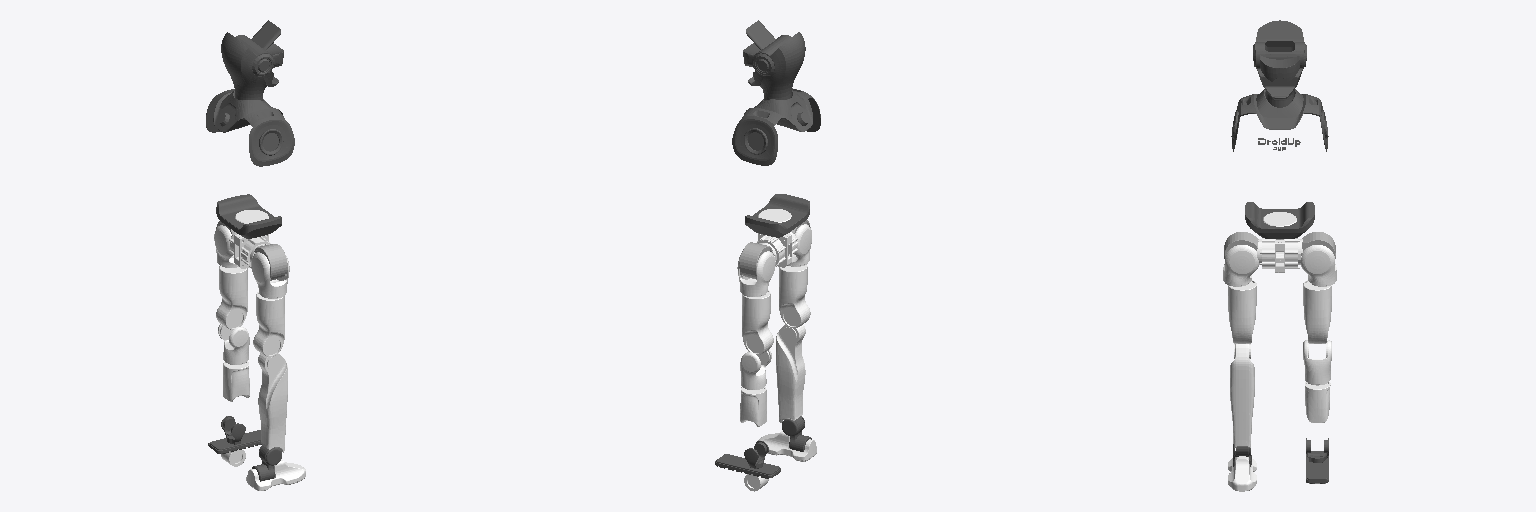
robot.urdf — E1_1114_V2:
<robot name="E1_1114_V2">
  <mujoco>
    <compiler meshdir="./meshes" discardvisual="false" />
  </mujoco>
  
  <link name="world"></link>
  <joint name="pelvis" type="floating">
    <parent link="world" />
    <child link="pelvis" />
  </joint>

  <link name="pelvis">
    <inertial>
      <origin xyz="-1.8273E-07 2.9782E-07 0.013661" rpy="0 0 0" />
      <mass value="2" />
      <inertia ixx="0.0041564" ixy="7.95E-08" ixz="-8.881E-09" iyy="0.0040309" iyz="1.8888E-08" izz="0.0033559" />
    </inertial>
    <visual>
      <origin xyz="0 0 0" rpy="0 0 0" />
      <geometry>
        <mesh filename="meshes/pelvis.STL" />
      </geometry>
      <material name="">
        <color rgba="1 1 1 1" />
      </material>
    </visual>
    <collision>
      <origin xyz="0 0 0" rpy="0 0 0" />
      <geometry>
        <mesh filename="meshes/pelvis.STL" />
      </geometry>
    </collision>
  </link>
  <link name="left_hip_pitch_link">
    <inertial>
      <origin xyz="1.5245E-07 0.040781 -0.0095605" rpy="0 0 0" />
      <mass value="0.145" />
      <inertia ixx="0.00026988" ixy="3.2192E-10" ixz="4.6748E-10" iyy="0.00023525" iyz="3.6352E-05" izz="0.00030182" />
    </inertial>
    <visual>
      <origin xyz="0 0 0" rpy="0 0 0" />
      <geometry>
        <mesh filename="meshes/left_hip_pitch_link.STL" />
      </geometry>
      <material name="">
        <color rgba="0.75294 0.75294 0.75294 1" />
      </material>
    </visual>
<!--    <collision>-->
<!--      <origin xyz="0 0 0" rpy="0 0 0" />-->
<!--      <geometry>-->
<!--        <mesh filename="meshes1/left_hip_pitch_link.STL" />-->
<!--      </geometry>-->
<!--    </collision>-->
  </link>
  <joint name="left_hip_pitch_joint" type="revolute">
    <origin xyz="0 0.0575 0" rpy="0 0 0" />
    <parent link="pelvis" />
    <child link="left_hip_pitch_link" />
    <axis xyz="0 1 0" />
    <limit lower="-2.7053" upper="2.7053" effort="60" velocity="20.42" />
  </joint>
  <link name="left_hip_roll_link">
    <inertial>
      <origin xyz="6.638E-08 -8.1233E-10 -0.040601" rpy="0 0 0" />
      <mass value="1.39" />
      <inertia ixx="0.00062768" ixy="7.5499E-10" ixz="-1.0226E-09" iyy="0.00050845" iyz="2.585E-11" izz="0.00061445" />
    </inertial>
    <visual>
      <origin xyz="0 0 0" rpy="0 0 0" />
      <geometry>
        <mesh filename="meshes/left_hip_roll_link.STL" />
      </geometry>
      <material name="">
        <color rgba="1 1 1 1" />
      </material>
    </visual>
<!--    <collision>-->
<!--      <origin xyz="0 0 0" rpy="0 0 0" />-->
<!--      <geometry>-->
<!--        <mesh filename="meshes1/left_hip_roll_link.STL" />-->
<!--      </geometry>-->
<!--    </collision>-->
  </link>
  <joint name="left_hip_roll_joint" type="revolute">
    <origin xyz="0 0.0575 -0.015" rpy="0 0 0" />
    <parent link="left_hip_pitch_link" />
    <child link="left_hip_roll_link" />
    <axis xyz="1 0 0" />
    <limit lower="-0.5236" upper="3.1416" effort="36" velocity="50.265" />
  </joint>
  <link name="left_hip_yaw_link">
    <inertial>
      <origin xyz="0.003213 1.3339E-07 -0.10201" rpy="0 0 0" />
      <mass value="2.32" />
      <inertia ixx="0.0085062" ixy="4.7179E-08" ixz="0.0004375" iyy="0.0088179" iyz="-7.6742E-08" izz="0.0026282" />
    </inertial>
    <visual>
      <origin xyz="0 0 0" rpy="0 0 0" />
      <geometry>
        <mesh filename="meshes/left_hip_yaw_link.STL" />
      </geometry>
      <material name="">
        <color rgba="1 1 1 1" />
      </material>
    </visual>
    <collision>
      <origin xyz="0 0 0" rpy="0 0 0" />
      <geometry>
        <mesh filename="meshes/left_hip_yaw_link.STL" />
      </geometry>
    </collision>
  </link>
  <joint name="left_hip_yaw_joint" type="revolute">
    <origin xyz="0 0 -0.098" rpy="0 0 0" />
    <parent link="left_hip_roll_link" />
    <child link="left_hip_yaw_link" />
    <axis xyz="0 0 1" />
    <limit lower="-2.0944" upper="2.0944" effort="36" velocity="50.265" />
  </joint>
  <link name="left_knee_link">
    <inertial>
      <origin xyz="0.010928 5.3766E-06 -0.1336" rpy="0 0 0" />
      <mass value="0.785" />
      <inertia ixx="0.01028" ixy="1.8099E-08" ixz="-7.8224E-06" iyy="0.010376" iyz="6.475E-08" izz="0.00097804" />
    </inertial>
    <visual>
      <origin xyz="0 0 0" rpy="0 0 0" />
      <geometry>
        <mesh filename="meshes/left_knee_link.STL" />
      </geometry>
      <material name="">
        <color rgba="1 1 1 1" />
      </material>
    </visual>
<!--    <collision>-->
<!--      <origin xyz="0 0 0" rpy="0 0 0" />-->
<!--      <geometry>-->
<!--        <mesh filename="meshes1/left_knee_link.STL" />-->
<!--      </geometry>-->
<!--    </collision>-->
  </link>
  <joint name="left_knee_joint" type="revolute">
    <origin xyz="0 0 -0.222" rpy="0 0 0" />
    <parent link="left_hip_yaw_link" />
    <child link="left_knee_link" />
    <axis xyz="0 1 0" />
    <limit lower="0" upper="2.2689" effort="36" velocity="50.265" />
  </joint>
  <link name="left_ankle_pitch_link">
    <inertial>
      <origin xyz="-0.013253 1.2837E-08 -0.029421" rpy="0 0 0" />
      <mass value="0.597" />
      <inertia ixx="0.00032746" ixy="-4.6708E-13" ixz="-0.00010118" iyy="0.0003944" iyz="-3.5035E-13" izz="0.0001556" />
    </inertial>
    <visual>
      <origin xyz="0 0 0" rpy="0 0 0" />
      <geometry>
        <mesh filename="meshes/left_ankle_pitch_link.STL" />
      </geometry>
      <material name="">
        <color rgba="0.41961 0.41961 0.41961 1" />
      </material>
    </visual>
    <collision>
      <origin xyz="0 0 0" rpy="0 0 0" />
      <geometry>
        <mesh filename="meshes/left_ankle_pitch_link.STL" />
      </geometry>
    </collision>
  </link>
  <joint name="left_ankle_pitch_joint" type="revolute">
    <origin xyz="0 0 -0.32" rpy="0 0 0" />
    <parent link="left_knee_link" />
    <child link="left_ankle_pitch_link" />
    <axis xyz="0 1 0" />
    <limit lower="-0.5236" upper="0.5236" effort="36" velocity="50.265" />
  </joint>
  <link name="left_ankle_roll_link">
    <inertial>
      <origin xyz="0.028459 4.6408E-07 -0.016825" rpy="0 0 0" />
      <mass value="0.294" />
      <inertia ixx="0.00029698" ixy="2.1441E-08" ixz="1.0576E-05" iyy="0.0013074" iyz="-1.5243E-09" izz="0.0014027" />
    </inertial>
    <visual>
      <origin xyz="0 0 0" rpy="0 0 0" />
      <geometry>
        <mesh filename="meshes/left_ankle_roll_link.STL" />
      </geometry>
      <material name="">
        <color rgba="1 1 1 1" />
      </material>
    </visual>
    <collision>
      <origin xyz="0 0 0" rpy="0 0 0" />
      <geometry>
        <mesh filename="meshes/left_ankle_roll_link.STL" />
      </geometry>
    </collision>
  </link>
  <joint name="left_ankle_roll_joint" type="revolute">
    <origin xyz="0 0 -0.06" rpy="0 0 0" />
    <parent link="left_ankle_pitch_link" />
    <child link="left_ankle_roll_link" />
    <axis xyz="1 0 0" />
    <limit lower="-1.5708" upper="1.5708" effort="14" velocity="32.987" />
  </joint>
  <link name="right_hip_pitch_link">
    <inertial>
      <origin xyz="-1.5244E-07 -0.040781 -0.0095605" rpy="0 0 0" />
      <mass value="0.145" />
      <inertia ixx="0.00026988" ixy="3.2181E-10" ixz="-4.6747E-10" iyy="0.00023525" iyz="-3.6352E-05" izz="0.00030182" />
    </inertial>
    <visual>
      <origin xyz="0 0 0" rpy="0 0 0" />
      <geometry>
        <mesh filename="meshes/right_hip_pitch_link.STL" />
      </geometry>
      <material name="">
        <color rgba="0.75294 0.75294 0.75294 1" />
      </material>
    </visual>
<!--    <collision>-->
<!--      <origin xyz="0 0 0" rpy="0 0 0" />-->
<!--      <geometry>-->
<!--        <mesh filename="meshes1/right_hip_pitch_link.STL" />-->
<!--      </geometry>-->
<!--    </collision>-->
  </link>
  <joint name="right_hip_pitch_joint" type="revolute">
    <origin xyz="0 -0.0575 0" rpy="0 0 0" />
    <parent link="pelvis" />
    <child link="right_hip_pitch_link" />
    <axis xyz="0 1 0" />
    <limit lower="-2.7053" upper="2.7053" effort="60" velocity="20.42" />
  </joint>
  <link name="right_hip_roll_link">
    <inertial>
      <origin xyz="6.638E-08 -8.1233E-10 -0.040601" rpy="0 0 0" />
      <mass value="1.39" />
      <inertia ixx="0.00062768" ixy="7.5499E-10" ixz="-1.0226E-09" iyy="0.00050845" iyz="2.585E-11" izz="0.00061445" />
    </inertial>
    <visual>
      <origin xyz="0 0 0" rpy="0 0 0" />
      <geometry>
        <mesh filename="meshes/right_hip_roll_link.STL" />
      </geometry>
      <material name="">
        <color rgba="1 1 1 1" />
      </material>
    </visual>
<!--    <collision>-->
<!--      <origin xyz="0 0 0" rpy="0 0 0" />-->
<!--      <geometry>-->
<!--        <mesh filename="meshes1/right_hip_roll_link.STL" />-->
<!--      </geometry>-->
<!--    </collision>-->
  </link>
  <joint name="right_hip_roll_joint" type="revolute">
    <origin xyz="0 -0.0575 -0.015" rpy="0 0 0" />
    <parent link="right_hip_pitch_link" />
    <child link="right_hip_roll_link" />
    <axis xyz="1 0 0" />
    <limit lower="-2.618" upper="0.1745" effort="36" velocity="50.265" />
  </joint>
  <link name="right_hip_yaw_link">
    <inertial>
      <origin xyz="0.003213 1.3325E-07 -0.10201" rpy="0 0 0" />
      <mass value="2.32" />
      <inertia ixx="0.0085062" ixy="4.7189E-08" ixz="0.0004375" iyy="0.0088179" iyz="-7.6762E-08" izz="0.0026282" />
    </inertial>
    <visual>
      <origin xyz="0 0 0" rpy="0 0 0" />
      <geometry>
        <mesh filename="meshes/right_hip_yaw_link.STL" />
      </geometry>
      <material name="">
        <color rgba="1 1 1 1" />
      </material>
    </visual>
    <collision>
      <origin xyz="0 0 0" rpy="0 0 0" />
      <geometry>
        <mesh filename="meshes/right_hip_yaw_link.STL" />
      </geometry>
    </collision>
  </link>
  <joint name="right_hip_yaw_joint" type="revolute">
    <origin xyz="0 0 -0.098" rpy="0 0 0" />
    <parent link="right_hip_roll_link" />
    <child link="right_hip_yaw_link" />
    <axis xyz="0 0 1" />
    <limit lower="-2.0944" upper="2.0944" effort="36" velocity="50.265" />
  </joint>
  <link name="right_knee_link">
    <inertial>
      <origin xyz="0.010928 5.3656E-06 -0.1336" rpy="0 0 0" />
      <mass value="0.785" />
      <inertia ixx="0.01028" ixy="1.7944E-08" ixz="-7.8223E-06" iyy="0.010376" iyz="6.3725E-08" izz="0.00097804" />
    </inertial>
    <visual>
      <origin xyz="0 0 0" rpy="0 0 0" />
      <geometry>
        <mesh filename="meshes/right_knee_link.STL" />
      </geometry>
      <material name="">
        <color rgba="1 1 1 1" />
      </material>
    </visual>
<!--    <collision>-->
<!--      <origin xyz="0 0 0" rpy="0 0 0" />-->
<!--      <geometry>-->
<!--        <mesh filename="meshes1/right_knee_link.STL" />-->
<!--      </geometry>-->
<!--    </collision>-->
  </link>
  <joint name="right_knee_joint" type="revolute">
    <origin xyz="0 0 -0.222" rpy="0 0 0" />
    <parent link="right_hip_yaw_link" />
    <child link="right_knee_link" />
    <axis xyz="0 1 0" />
    <limit lower="0" upper="2.2689" effort="36" velocity="50.265" />
  </joint>
  <link name="right_ankle_pitch_link">
    <inertial>
      <origin xyz="-0.013253 1.2837E-08 -0.029421" rpy="0 0 0" />
      <mass value="0.597" />
      <inertia ixx="0.00032746" ixy="-4.6708E-13" ixz="-0.00010118" iyy="0.0003944" iyz="-3.5035E-13" izz="0.0001556" />
    </inertial>
    <visual>
      <origin xyz="0 0 0" rpy="0 0 0" />
      <geometry>
        <mesh filename="meshes/right_ankle_pitch_link.STL" />
      </geometry>
      <material name="">
        <color rgba="0.41961 0.41961 0.41961 1" />
      </material>
    </visual>
    <collision>
      <origin xyz="0 0 0" rpy="0 0 0" />
      <geometry>
        <mesh filename="meshes/right_ankle_pitch_link.STL" />
      </geometry>
    </collision>
  </link>
  <joint name="right_ankle_pitch_joint" type="revolute">
    <origin xyz="0 0 -0.32" rpy="0 0 0" />
    <parent link="right_knee_link" />
    <child link="right_ankle_pitch_link" />
    <axis xyz="0 1 0" />
    <limit lower="-0.5236" upper="0.5236" effort="36" velocity="50.265" />
  </joint>
  <link name="right_ankle_roll_link">
    <inertial>
      <origin xyz="0.028459 4.6474E-07 -0.016825" rpy="0 0 0" />
      <mass value="0.294" />
      <inertia ixx="0.00029698" ixy="2.1437E-08" ixz="1.0576E-05" iyy="0.0013074" iyz="-1.5207E-09" izz="0.0014027" />
    </inertial>
    <visual>
      <origin xyz="0 0 0" rpy="0 0 0" />
      <geometry>
        <mesh filename="meshes/right_ankle_roll_link.STL" />
      </geometry>
      <material name="">
        <color rgba="1 1 1 1" />
      </material>
    </visual>
    <collision>
      <origin xyz="0 0 0" rpy="0 0 0" />
      <geometry>
        <mesh filename="meshes/right_ankle_roll_link.STL" />
      </geometry>
    </collision>
  </link>
  <joint name="right_ankle_roll_joint" type="revolute">
    <origin xyz="0 0 -0.06" rpy="0 0 0" />
    <parent link="right_ankle_pitch_link" />
    <child link="right_ankle_roll_link" />
    <axis xyz="1 0 0" />
    <limit lower="-1.5708" upper="1.5708" effort="14" velocity="27.28" />
  </joint>
  <link name="waist_yaw_link">
    <inertial>
      <origin xyz="-1.0032E-18 -4.4098E-18 -0.013786" rpy="0 0 0" />
      <mass value="0.64" />
      <inertia ixx="0.0001781" ixy="-3.5511E-22" ixz="-1.8536E-21" iyy="0.0001781" iyz="8.4709E-21" izz="0.00032641" />
    </inertial>
    <visual>
      <origin xyz="0 0 0" rpy="0 0 0" />
      <geometry>
        <mesh filename="meshes/waist_yaw_link.STL" />
      </geometry>
      <material name="">
        <color rgba="1 1 1 1" />
      </material>
    </visual>
    <collision>
      <origin xyz="0 0 0" rpy="0 0 0" />
      <geometry>
        <mesh filename="meshes/waist_yaw_link.STL" />
      </geometry>
    </collision>
  </link>
  <joint name="waist_yaw_joint" type="revolute">
    <origin xyz="0 0 0.111" rpy="0 0 0" />
    <parent link="pelvis" />
    <child link="waist_yaw_link" />
    <axis xyz="0 0 1" />
    <limit lower="-1.5708" upper="1.5708" effort="60" velocity="50.265" />
  </joint>
  <link name="torso_link">
    <inertial>
      <origin xyz="-0.00095325 4.4846E-06 0.086708" rpy="0 0 0" />
      <mass value="5.3" />
      <inertia ixx="0.014857" ixy="-2.1177E-07" ixz="-9.7359E-06" iyy="0.012615" iyz="6.0604E-10" izz="0.013476" />
    </inertial>
    <visual>
      <origin xyz="0 0 0" rpy="0 0 0" />
      <geometry>
        <mesh filename="meshes/torso_link.STL" />
      </geometry>
      <material name="">
        <color rgba="0.41961 0.41961 0.41961 1" />
      </material>
    </visual>
    <collision>
      <origin xyz="0 0 0" rpy="0 0 0" />
      <geometry>
        <mesh filename="meshes/torso_link.STL" />
      </geometry>
    </collision>
  </link>
  <joint name="torso_joint" type="fixed">
    <origin xyz="0 0 0" rpy="0 0 0" />
    <parent link="waist_yaw_link" />
    <child link="torso_link" />
    <axis xyz="0 0 0" />
  </joint>
</robot>

--- Facts derived from the render (not from the file) ---
Views: 3 orthographic renders of the robot side by side, from view 1: azimuth 30°, elevation 25°; view 2: azimuth 150°, elevation 25°; view 3: azimuth 270°, elevation 25°.
Model E1_1114_V2 with 16 links and 15 joints (13 revolute, 1 fixed, 1 floating), rooted at world, posed all joints at 0.
Visible links, largest first — view 1: torso_link, right_knee_link, left_knee_link, left_hip_yaw_link, right_hip_yaw_link, left_ankle_pitch_link, right_hip_roll_link, right_ankle_roll_link, pelvis, right_hip_pitch_link, left_hip_roll_link, right_ankle_pitch_link; view 2: torso_link, right_knee_link, left_knee_link, right_hip_yaw_link, left_hip_yaw_link, left_ankle_pitch_link, left_hip_roll_link, right_ankle_roll_link, pelvis, left_hip_pitch_link, right_hip_roll_link, right_ankle_pitch_link; view 3: torso_link, right_knee_link, left_knee_link, left_hip_yaw_link, right_hip_yaw_link, pelvis, left_hip_roll_link, right_hip_roll_link, right_ankle_roll_link, left_ankle_pitch_link.
Boxes of the visible links, x1,y1,x2,y2 form: torso_link: (206, 20, 294, 238); right_knee_link: (258, 353, 287, 452); left_knee_link: (218, 324, 249, 401); left_hip_yaw_link: (216, 266, 247, 329); right_hip_yaw_link: (253, 292, 284, 356); left_ankle_pitch_link: (208, 416, 261, 453); right_hip_roll_link: (251, 252, 289, 298); right_ankle_roll_link: (246, 459, 305, 490); pelvis: (229, 233, 270, 268); right_hip_pitch_link: (254, 244, 287, 280); left_hip_roll_link: (214, 225, 238, 267); right_ankle_pitch_link: (252, 445, 281, 481); torso_link: (732, 20, 820, 237); right_knee_link: (776, 325, 805, 422); left_knee_link: (740, 349, 771, 426); right_hip_yaw_link: (779, 265, 810, 327); left_hip_yaw_link: (742, 290, 773, 354); left_ankle_pitch_link: (715, 441, 780, 478); left_hip_roll_link: (737, 251, 775, 296); right_ankle_roll_link: (758, 430, 816, 461); pelvis: (756, 232, 797, 267); left_hip_pitch_link: (739, 242, 772, 278); right_hip_roll_link: (788, 224, 811, 266); right_ankle_pitch_link: (782, 416, 811, 451); torso_link: (1231, 20, 1328, 238); right_knee_link: (1230, 344, 1254, 447); left_knee_link: (1303, 340, 1331, 422); left_hip_yaw_link: (1303, 280, 1331, 343); right_hip_yaw_link: (1228, 280, 1256, 343); pelvis: (1257, 236, 1302, 272); left_hip_roll_link: (1300, 245, 1336, 286); right_hip_roll_link: (1223, 245, 1259, 286); right_ankle_roll_link: (1228, 456, 1256, 491); left_ankle_pitch_link: (1306, 438, 1328, 483).
Size in the robot's own frame: 0.2532 by 0.348 by 1.53 metres.
15 mesh visuals loaded from 15 distinct referenced files (15 binary STL).